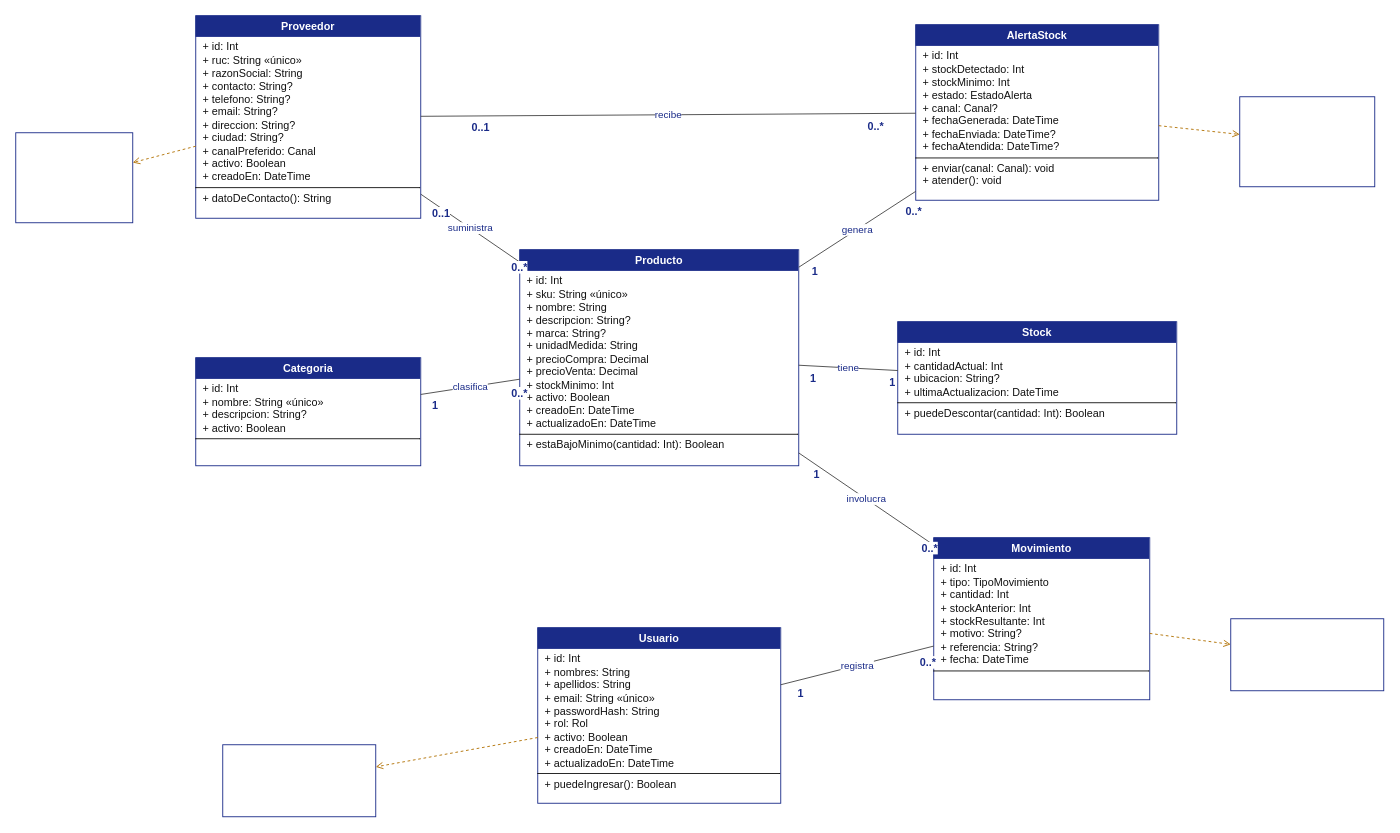
Image size: 1400x833. Some labels were removed from this diagram. The shapes that lost their labels are listed below. From the top down, each one's box as (x1, y1, x2, y2) in pixels, then its label:
(1239, 96, 1375, 187): «enumeración» EstadoAlerta PENDIENTE ENVIADA ATENDIDA
(15, 132, 133, 223): «enumeración» Canal CORREO SMS WHATSAPP
(1230, 618, 1384, 691): «enumeración» TipoMovimiento ENTRADA SALIDA
(222, 744, 376, 817): «enumeración» Rol ADMINISTRADOR MECANICO
